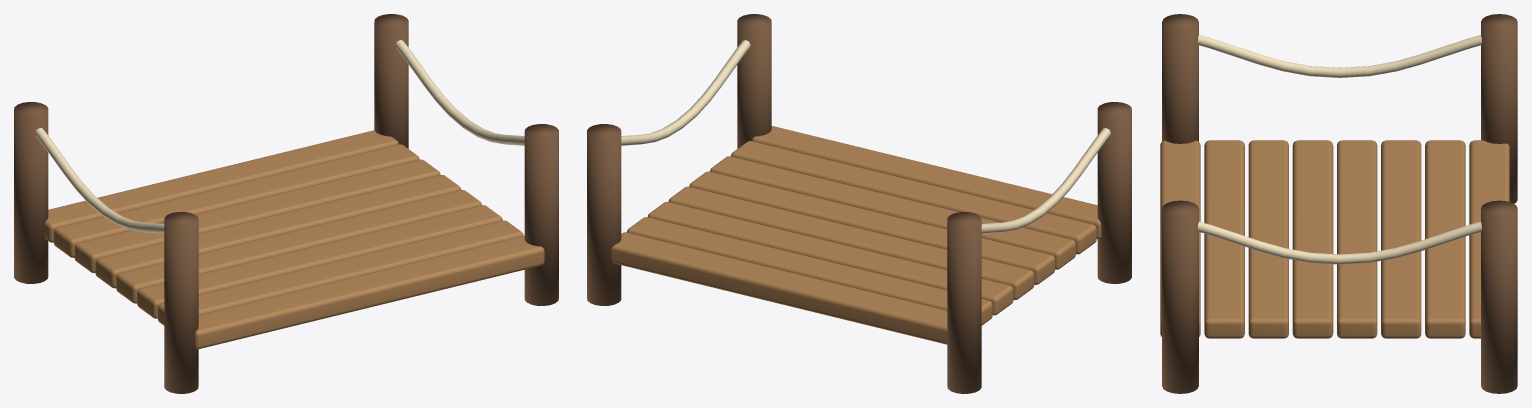
File: dock.glb
3 views of the same model, side by side, from view 1: azimuth 30°, elevation 25°; view 2: azimuth 150°, elevation 25°; view 3: azimuth 270°, elevation 25° (orthographic). The views are drawn at different scales.
Parts seen in each view (by area): view 1: dock_World_Mesh; view 2: dock_World_Mesh; view 3: dock_World_Mesh.
Boxes of the visible parts, box(x1,y1,x2,y2) form: dock_World_Mesh: box(14, 14, 558, 393); dock_World_Mesh: box(587, 14, 1131, 393); dock_World_Mesh: box(1160, 14, 1517, 393).
Size of the model in its own units: 1.95 by 0.8 by 1.46.
